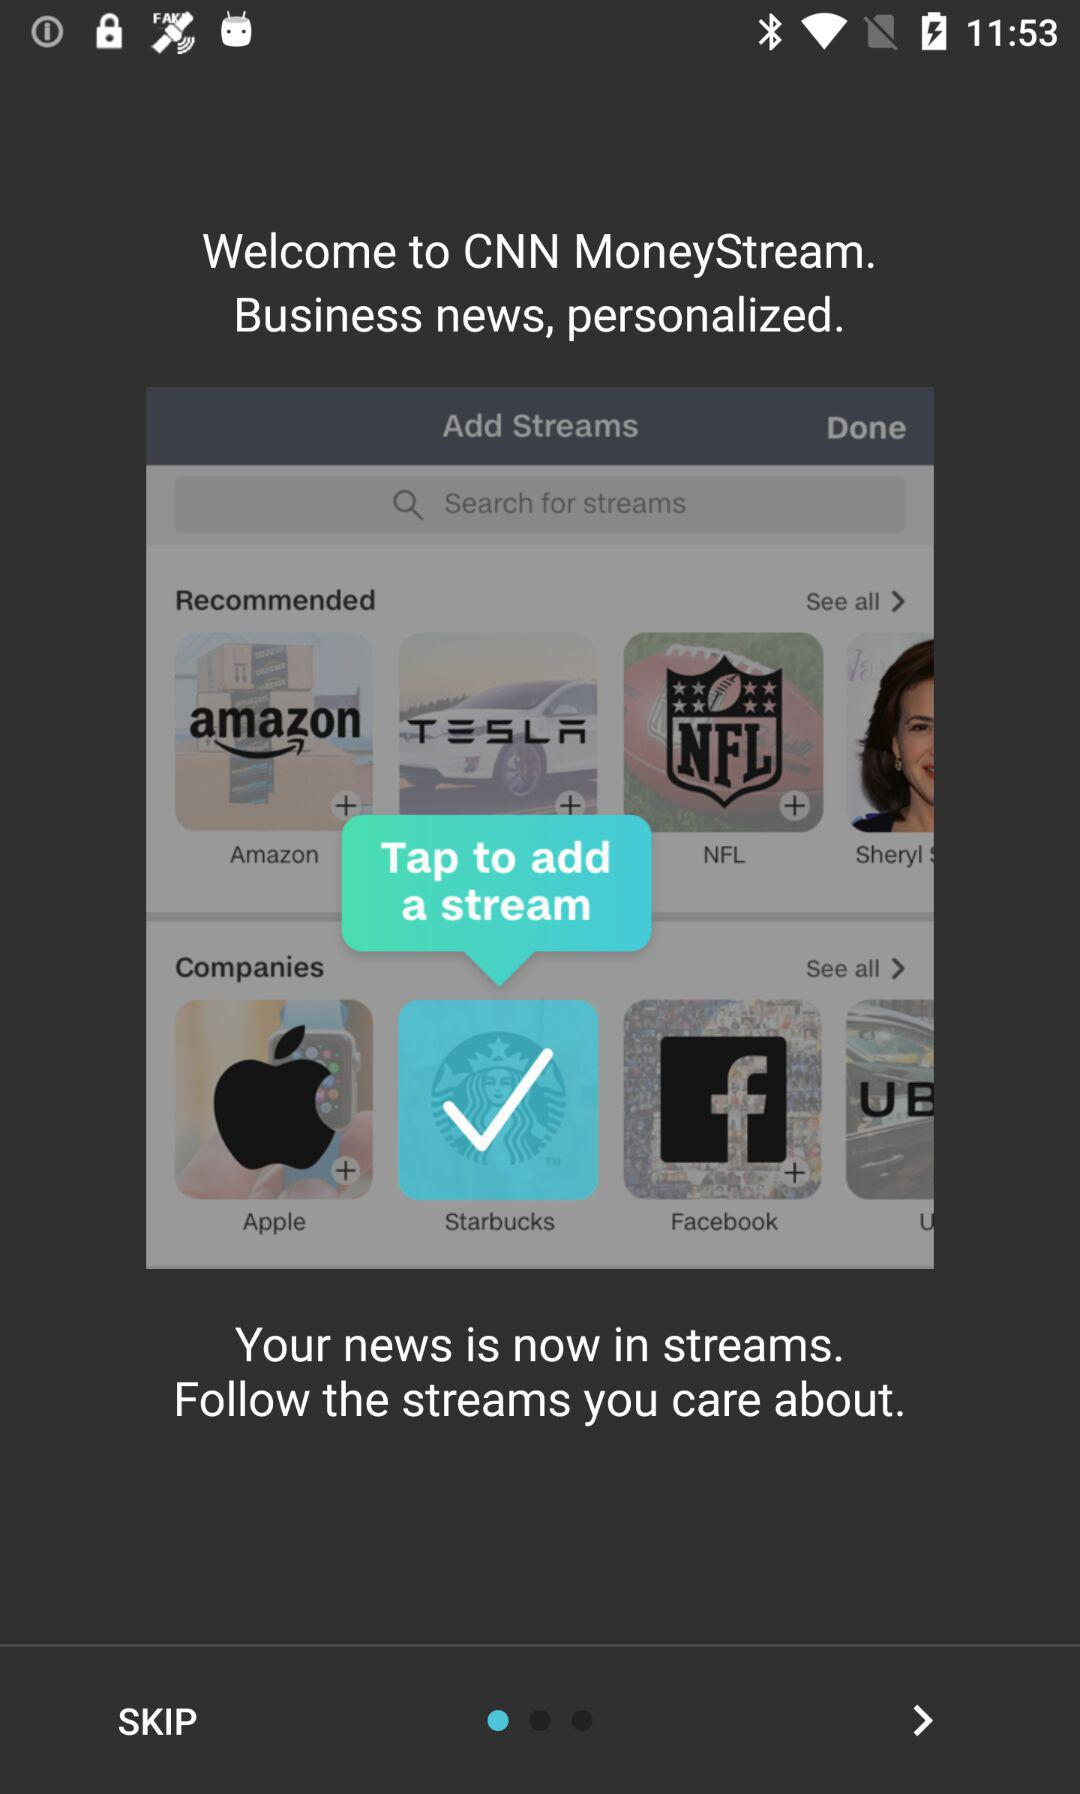Icon: (912, 1704, 935, 1739)
Image: (145, 387, 937, 1270)
PageIndicator: (486, 1708, 596, 1732)
Text: (176, 1379, 904, 1428), (202, 232, 878, 281), (236, 295, 846, 343), (234, 1325, 842, 1363), (118, 1707, 199, 1738)
UpperTaskBar: (1, 1, 1080, 64)
